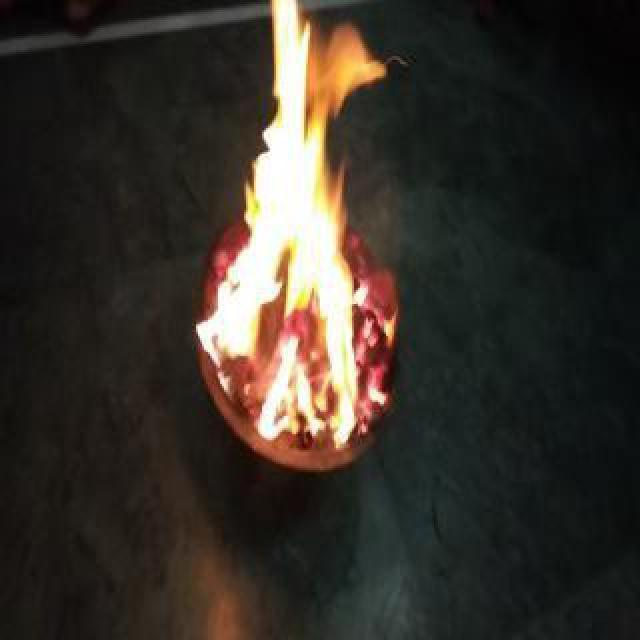Fire: (192, 6, 402, 448)
